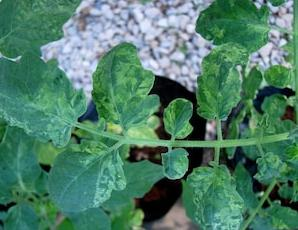Tomato leaf mosaic virus: (0, 51, 86, 145), (45, 136, 127, 218), (89, 42, 161, 131), (177, 154, 244, 230), (195, 0, 271, 56), (196, 44, 252, 120), (161, 92, 194, 139), (158, 145, 188, 180)
